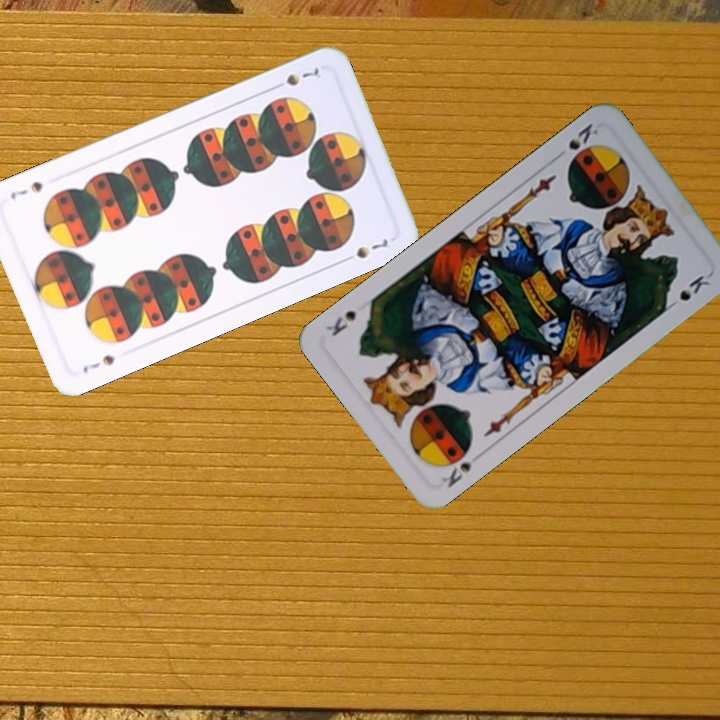S7: (268, 63, 322, 92), (78, 350, 117, 376)
SK: (437, 447, 484, 491), (564, 119, 601, 153)
